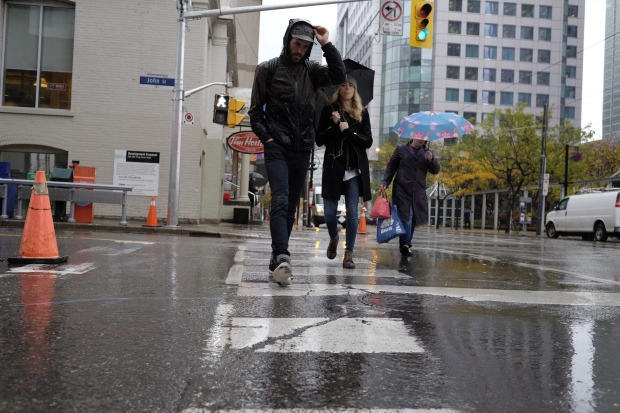pedestrian: (247, 14, 340, 287), (320, 58, 371, 273), (376, 117, 435, 275)
